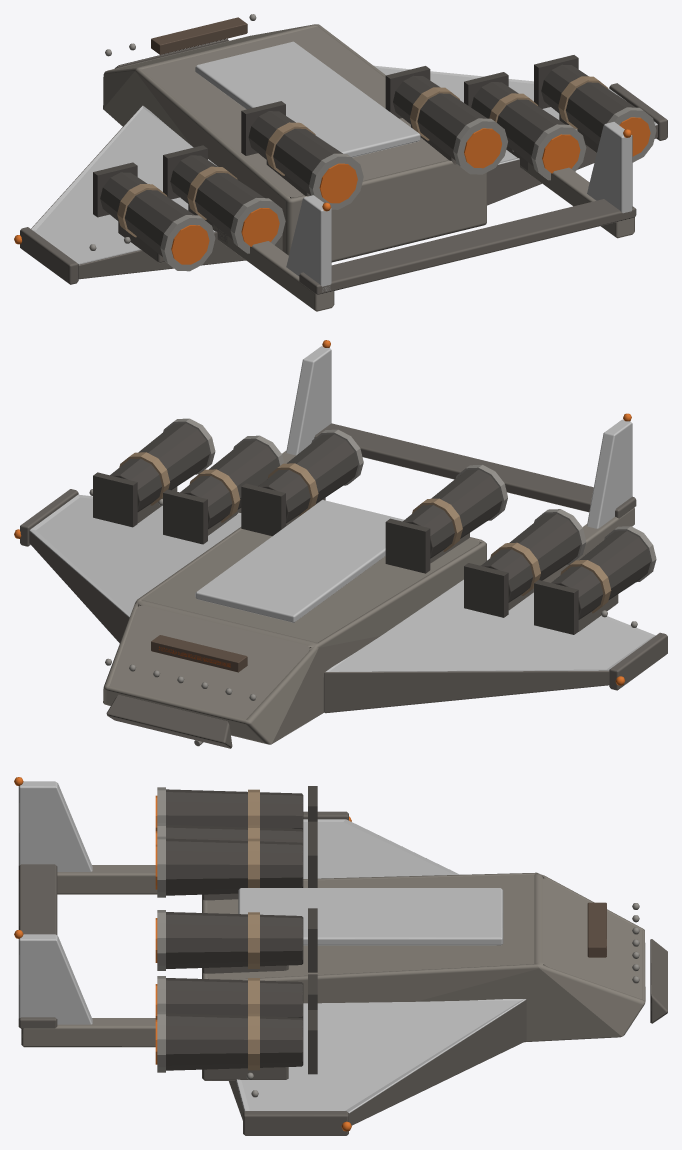
Rendered from crucible_heavy_bomber.glb.
3 views of the same model, one above another, from view 1: azimuth 30°, elevation 25°; view 2: azimuth 150°, elevation 25°; view 3: azimuth 270°, elevation 25° (orthographic). The views are drawn at different scales.
Visible parts, largest first — view 1: Body; view 2: Body; view 3: Body.
Boxes of the visible parts, x1=… form: Body: x1=14, y1=14, x2=667, y2=311; Body: x1=14, y1=340, x2=667, y2=748; Body: x1=14, y1=777, x2=667, y2=1135.
Size of the model in its own units: 3.04 by 0.82 by 2.71.
